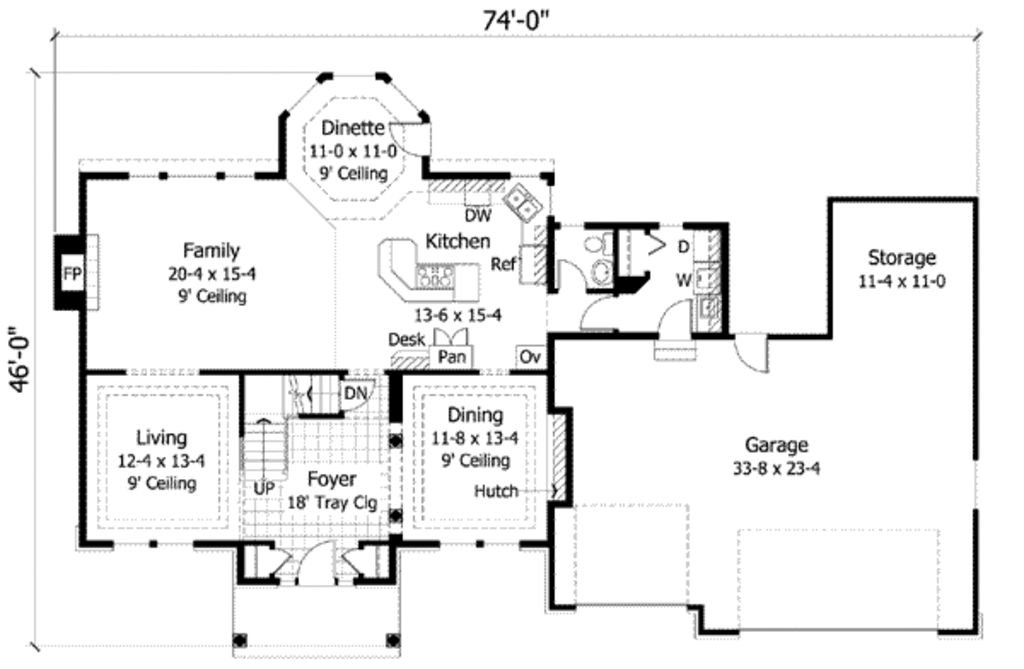door: (293, 539, 341, 588), (387, 118, 434, 158), (725, 331, 768, 370), (573, 295, 617, 333), (653, 297, 690, 338), (556, 255, 586, 295)
kitchen_bar: (372, 233, 488, 309)
large_sink: (580, 232, 611, 261)
stairs: (239, 372, 342, 495)
twin_sink: (502, 183, 544, 227)
windows: (123, 167, 258, 183), (107, 535, 200, 552), (426, 539, 524, 553)
